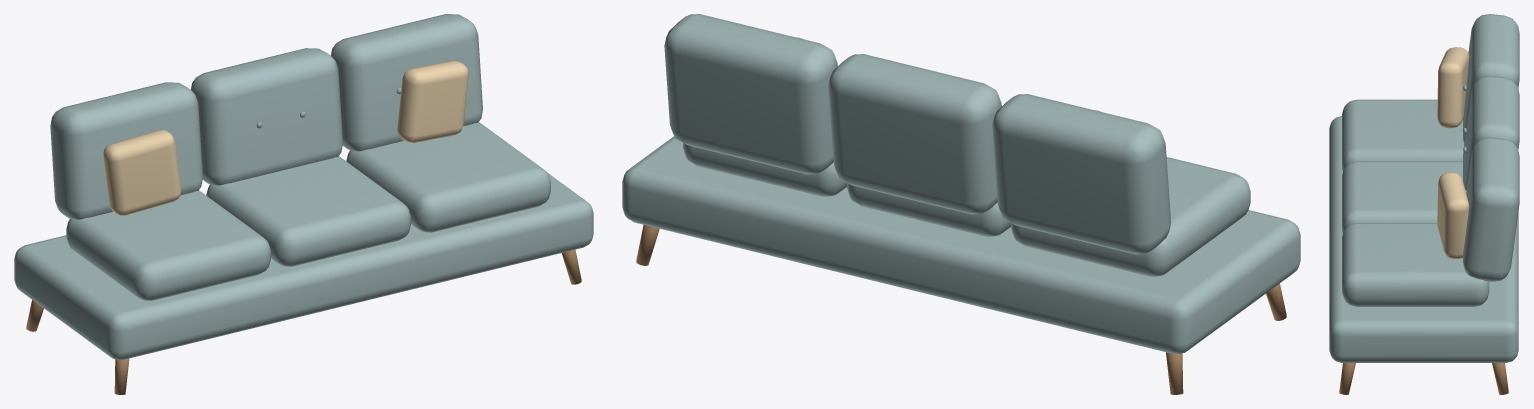
Rendered from atelier-modular-sofa.glb.
The picture shows the model from 3 angles, left to right: view 1: azimuth 30°, elevation 25°; view 2: azimuth 150°, elevation 25°; view 3: azimuth 270°, elevation 25°; orthographic projection. The views are drawn at different scales.
Visible parts, largest first — view 1: fabric.005, accent.005, legs.005; view 2: fabric.005, legs.005; view 3: fabric.005, accent.005, legs.005.
Part boxes in pixels (bbox=[...]): fabric.005: bbox=[14, 14, 593, 359]; accent.005: bbox=[103, 61, 468, 215]; legs.005: bbox=[26, 250, 581, 394]; fabric.005: bbox=[622, 14, 1300, 353]; legs.005: bbox=[636, 225, 1286, 394]; fabric.005: bbox=[1329, 14, 1519, 362]; accent.005: bbox=[1437, 47, 1469, 259]; legs.005: bbox=[1339, 363, 1508, 394].
Bounding box in the file's own units: 2.4 × 1.02 × 0.9046.
